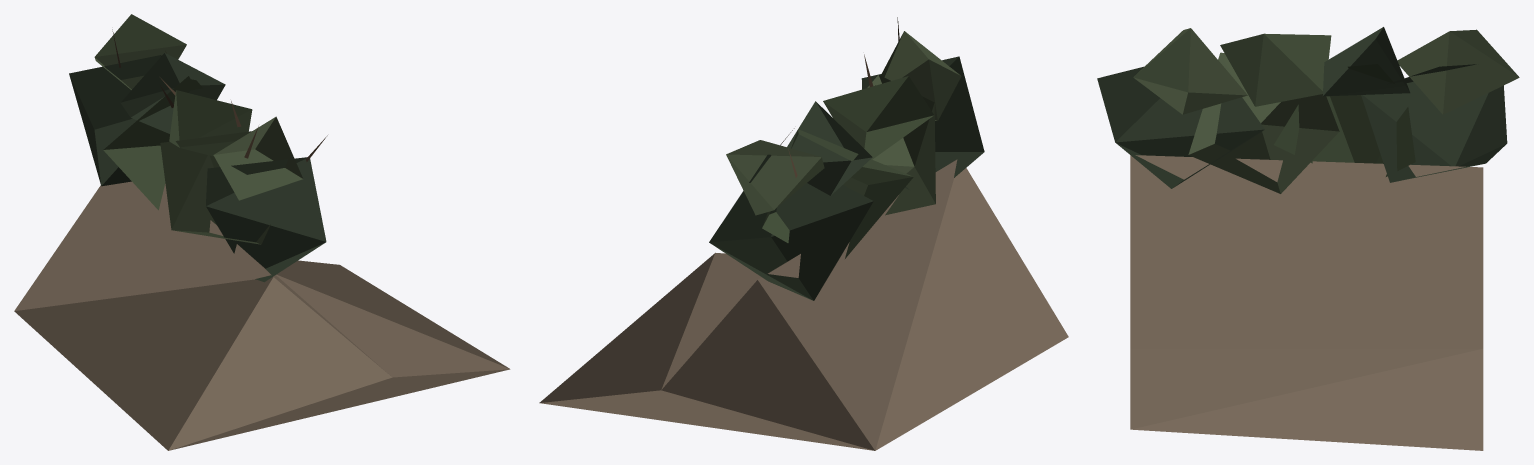
The model's file is bree_dike_hedge_lod2.glb.
The picture shows the model from 3 angles, left to right: view 1: azimuth 30°, elevation 25°; view 2: azimuth 150°, elevation 25°; view 3: azimuth 270°, elevation 25°; orthographic projection. The views are drawn at different scales.
Parts seen in each view (by area): view 1: bree_dike_hedge_lod2; view 2: bree_dike_hedge_lod2; view 3: bree_dike_hedge_lod2.
Boxes of the visible parts, x1,y1,x2,y2 form: bree_dike_hedge_lod2: (14,14,510,450); bree_dike_hedge_lod2: (539,17,1068,450); bree_dike_hedge_lod2: (1097,27,1519,450).
Size of the model in its own units: 4.63 by 3.95 by 4.79.
